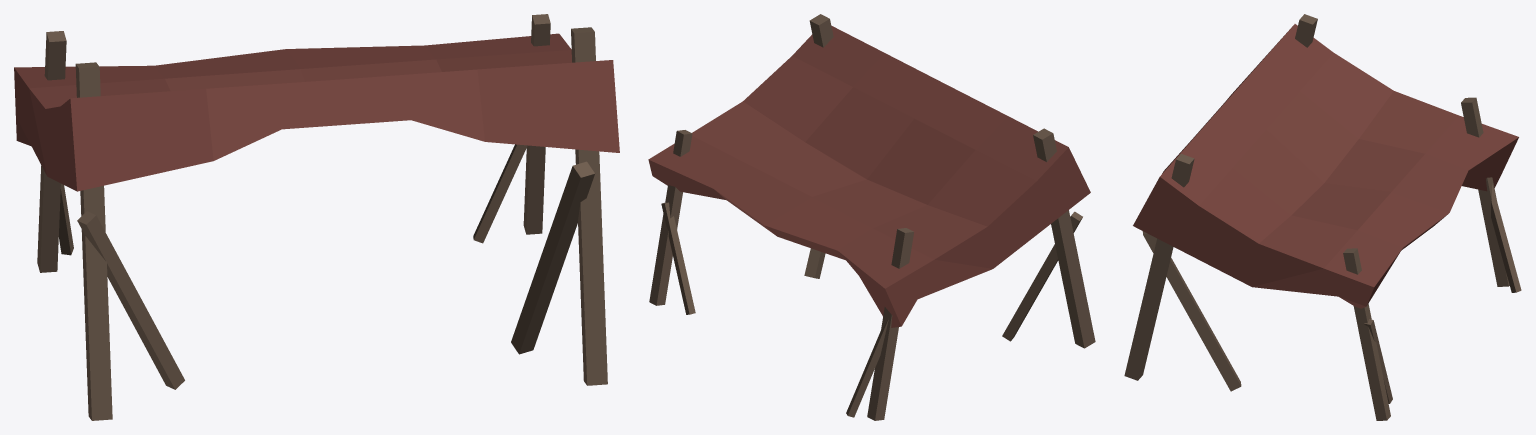
File: tent_red.glb
3 renders of one model, left to right at view 1: azimuth 30°, elevation 25°; view 2: azimuth 150°, elevation 25°; view 3: azimuth 270°, elevation 25°, orthographic. The views are drawn at different scales.
Parts seen in each view (by area): view 1: Tent Yellow.198; view 2: Tent Yellow.198; view 3: Tent Yellow.198.
Boxes of the visible parts, x1,y1,x2,y2 form: Tent Yellow.198: [14, 14, 619, 420]; Tent Yellow.198: [648, 14, 1095, 420]; Tent Yellow.198: [1124, 14, 1521, 420].
Size of the model in its own units: 0.1594 by 0.0934 by 0.14.
